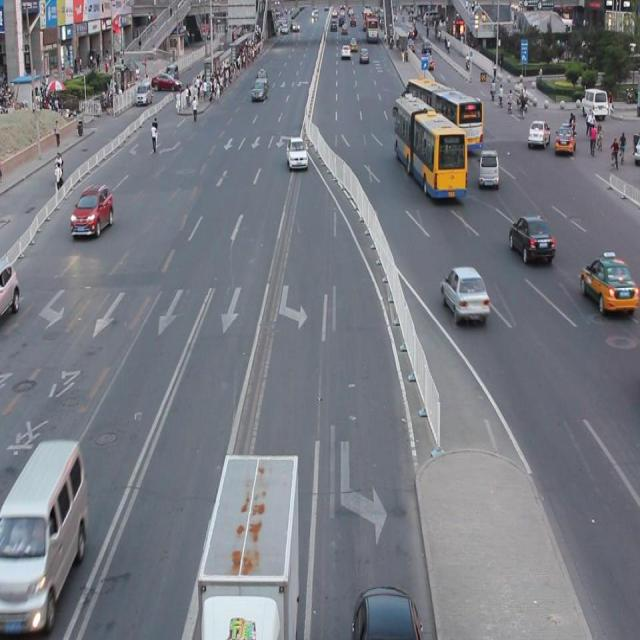bus: (197, 449, 299, 640)
car: (352, 583, 422, 640), (578, 254, 640, 313), (439, 264, 489, 320), (70, 183, 113, 237), (508, 213, 554, 263), (1, 258, 20, 319)
truck: (1, 438, 88, 630)
